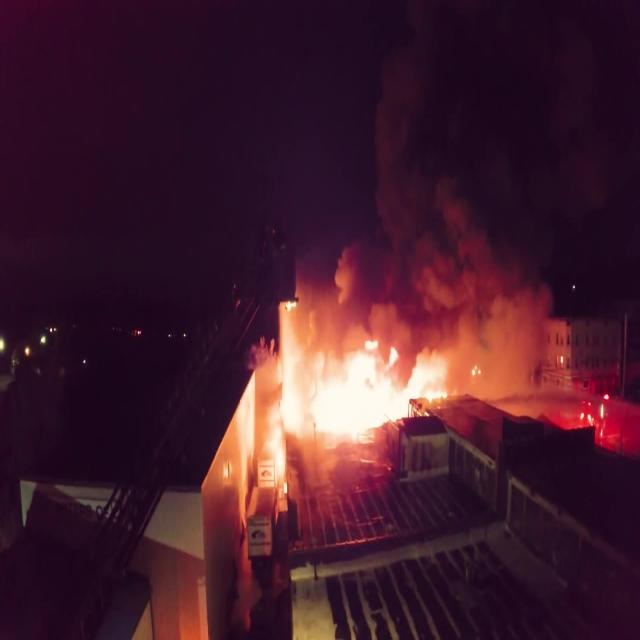fire: (286, 364, 426, 440)
smoke: (420, 22, 534, 294)
